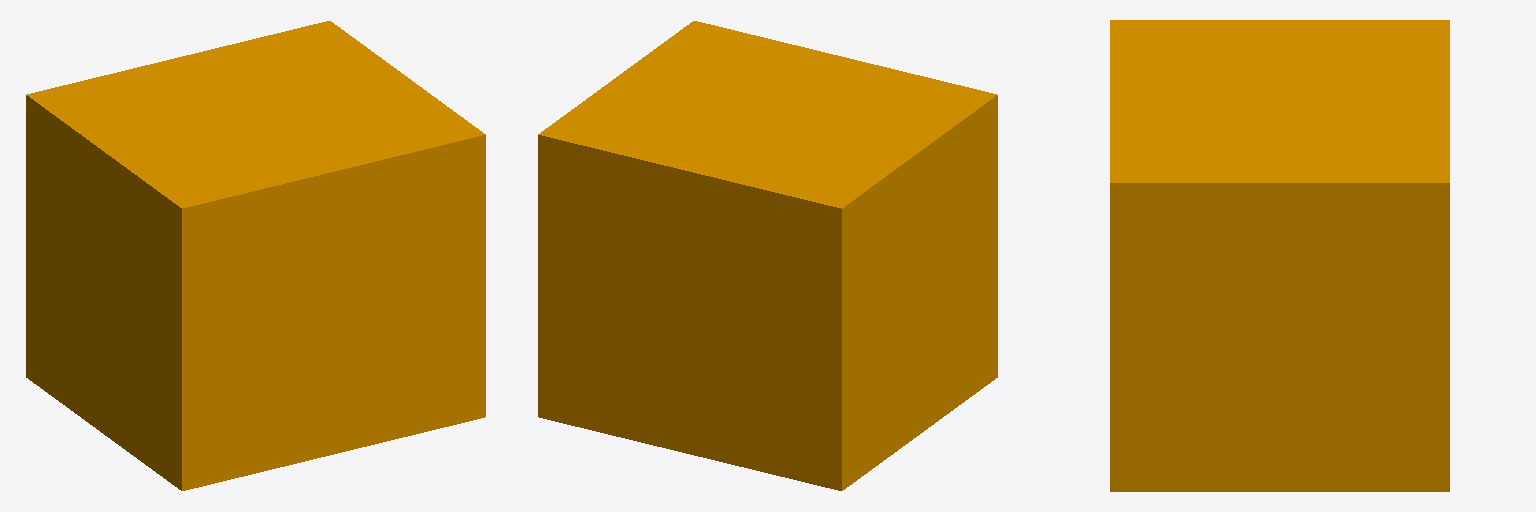
The robot description file, URDF, robot "2x2":
<?xml version='1.0' encoding='UTF-8'?>
<robot name="2x2">
  <link name="base_link">
    <inertial>
      <origin xyz="0.0 0.0 0.0" rpy="0.0 0.0 0.0"/>
      <mass value="0.01"/>
      <inertia ixx="0.1" ixy="0.0" ixz="0.0" iyy="0.1" iyz="0.0" izz="0.1"/>
    </inertial>
    <visual>
      <geometry>
        <box size="0.018 0.016 0.016"/>
      </geometry>
      <material name=""/>
      <origin xyz="0.0 0.0 0.0" rpy="0.0 0.0 0.0"/>
    </visual>
    <collision>
      <geometry>
        <box size="0.018 0.016 0.016"/>
      </geometry>
      <origin xyz="0.0 0.0 0.0" rpy="0.0 0.0 0.0"/>
    </collision>
  </link>
  <material name="">
    <color rgba="0.725 0.74  0.062 1.   "/>
  </material>
  <contact>
    <lateral_friction value="1.0"/>
    <rolling_friction value="0.0"/>
    <contact_cfm value="0.0"/>
    <contact_erp value="1.0"/>
  </contact>
</robot>

--- What the picture shows (computed from the rendered views, not written in the file) ---
Views: 3 orthographic renders of the robot side by side, from view 1: azimuth 30°, elevation 25°; view 2: azimuth 150°, elevation 25°; view 3: azimuth 270°, elevation 25°.
Robot: 2x2 — 1 links, 0 joints (none); root link base_link; default pose: every joint at zero.
Links seen in each view (by area): view 1: base_link; view 2: base_link; view 3: base_link.
Link boxes in pixels (left/top/right/bottom): base_link: left=26, top=21, right=485, bottom=490; base_link: left=538, top=21, right=997, bottom=490; base_link: left=1110, top=20, right=1449, bottom=491.
Size in the robot's own frame: 0.018 by 0.016 by 0.016 metres.
Geometry: primitives only (box / cylinder / sphere), no mesh files.